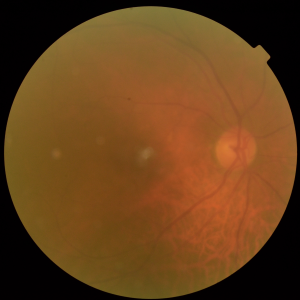cataract: (63, 92, 272, 216)
